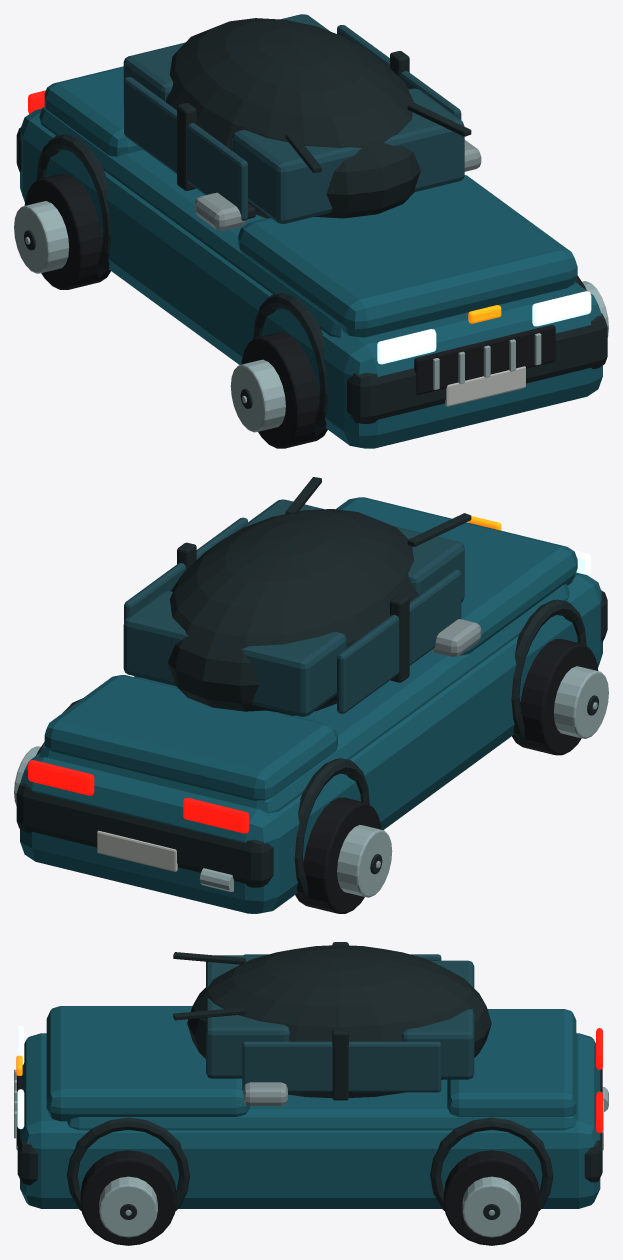
The model's file is sedanD.glb.
3 views of the same model, one above another, from view 1: azimuth 30°, elevation 25°; view 2: azimuth 150°, elevation 25°; view 3: azimuth 270°, elevation 25° (orthographic). The views are drawn at different scales.
Parts seen in each view (by area): view 1: SedanD_Hood, SedanD_BPillar, SedanD_RearGlass, SedanD_Grille, SedanD_Exhaust, SedanD_Headlight, SedanD_Plate, SedanD_MirrorCap; view 2: SedanD_Hood, SedanD_BPillar, SedanD_RearGlass, SedanD_Grille, SedanD_Exhaust, SedanD_TailLight, SedanD_Plate, SedanD_MirrorCap; view 3: SedanD_Hood, SedanD_BPillar, SedanD_RearGlass, SedanD_Grille, SedanD_Exhaust, SedanD_MirrorCap, SedanD_TailLight, SedanD_Headlight.
Boxes of the visible parts, x1,y1,x2,y2 form: SedanD_Hood: [20, 66, 602, 448]; SedanD_BPillar: [16, 18, 607, 436]; SedanD_RearGlass: [123, 14, 464, 223]; SedanD_Grille: [24, 173, 586, 448]; SedanD_Exhaust: [14, 201, 608, 432]; SedanD_Headlight: [377, 291, 591, 364]; SedanD_Plate: [445, 366, 525, 406]; SedanD_MirrorCap: [195, 140, 481, 230]; SedanD_Hood: [20, 497, 602, 913]; SedanD_BPillar: [16, 477, 607, 901]; SedanD_RearGlass: [123, 499, 464, 716]; SedanD_Grille: [36, 639, 598, 913]; SedanD_Exhaust: [14, 666, 608, 897]; SedanD_TailLight: [28, 760, 249, 833]; SedanD_Plate: [97, 830, 177, 871]; SedanD_MirrorCap: [431, 619, 481, 656]; SedanD_Hood: [20, 1006, 600, 1208]; SedanD_BPillar: [17, 942, 602, 1219]; SedanD_RearGlass: [206, 954, 474, 1092]; SedanD_Grille: [17, 1075, 539, 1245]; SedanD_Exhaust: [14, 1069, 608, 1237]; SedanD_MirrorCap: [243, 1082, 287, 1105]; SedanD_TailLight: [596, 1028, 602, 1133]; SedanD_Headlight: [17, 1025, 24, 1129].
Size of the model in its own units: 2.91 by 2.14 by 5.08.
